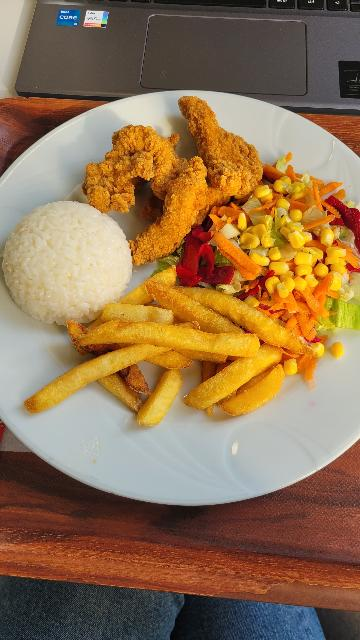Organik: (56, 274, 299, 438), (198, 163, 360, 369), (100, 120, 262, 265), (16, 198, 126, 317)
